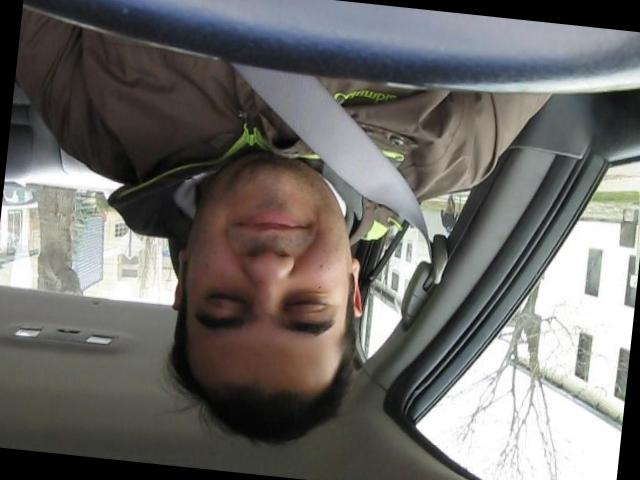eye_closed: (201, 282, 255, 316), (280, 292, 332, 321)
face: (184, 148, 363, 364)
